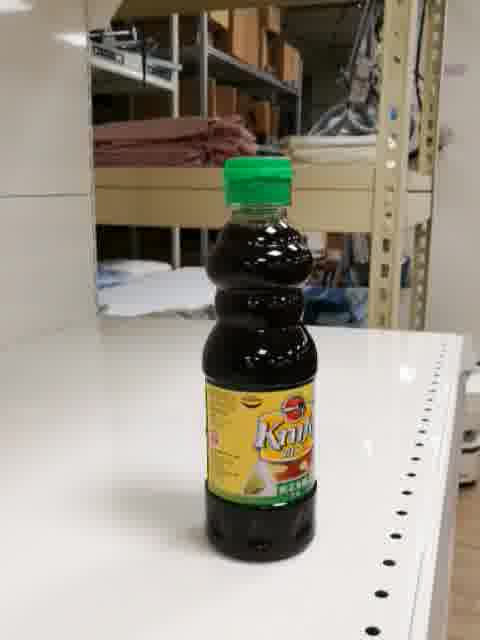cookingoil: (198, 152, 318, 567)
